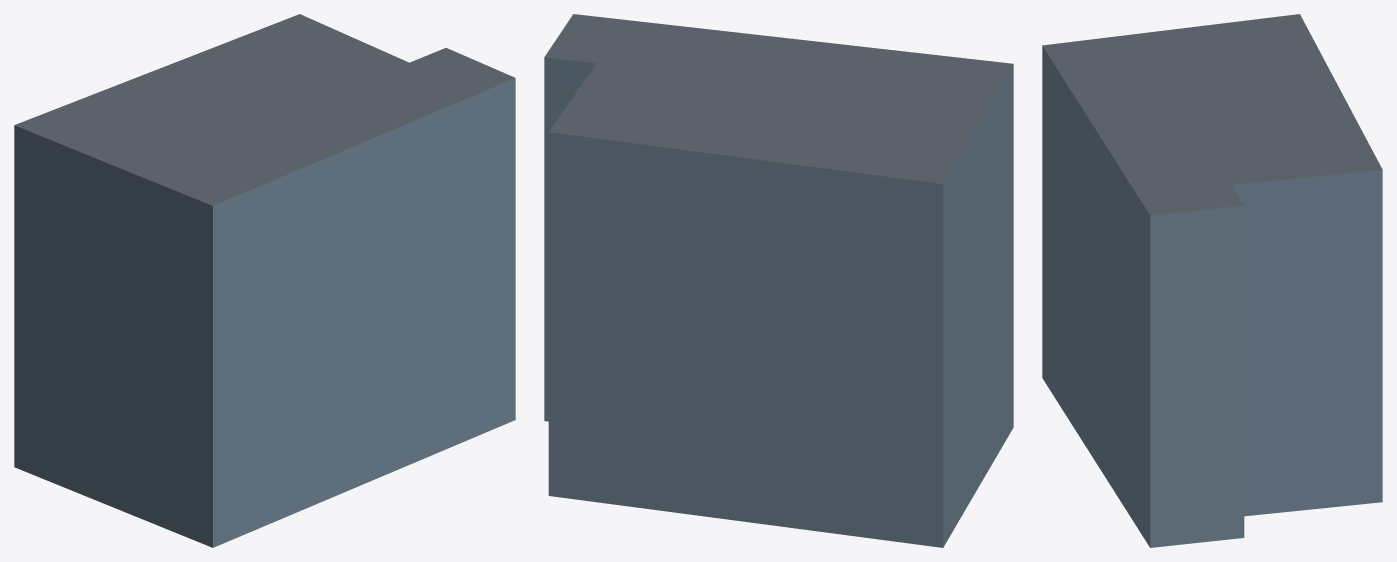
3 views of the same model, side by side, from view 1: azimuth 30°, elevation 25°; view 2: azimuth 150°, elevation 25°; view 3: azimuth 270°, elevation 25° (orthographic). The views are drawn at different scales.
Visible parts, largest first — view 1: HP-w1196704494; view 2: HP-w1196704494; view 3: HP-w1196704494.
Boxes of the visible parts, x1,y1,x2,y2 form: HP-w1196704494: (14, 14, 515, 547); HP-w1196704494: (544, 14, 1013, 547); HP-w1196704494: (1042, 14, 1382, 547).
Size of the model in its own units: 79.01 by 60.8 by 56.41.
